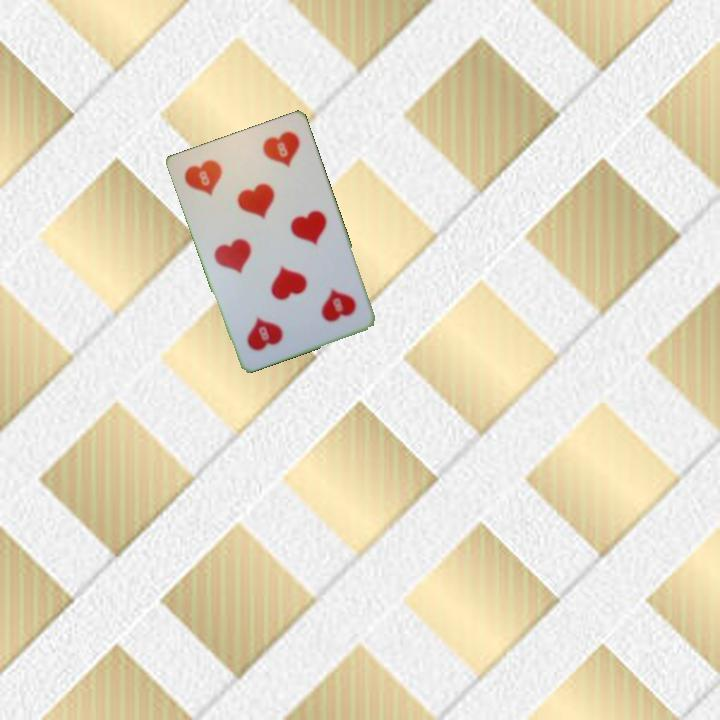h_8.png: (286, 266, 367, 342), (177, 142, 258, 218)
